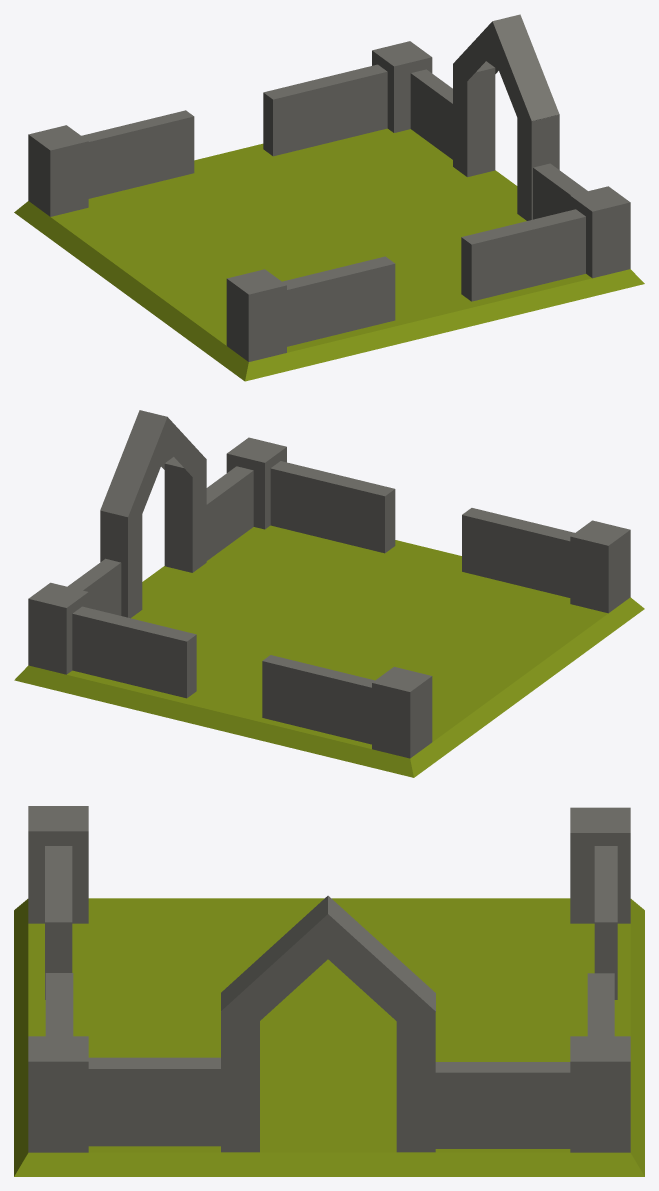
Rendered from cemetery_ushape.fbx.
3 views of the same model, one above another, from view 1: azimuth 30°, elevation 25°; view 2: azimuth 150°, elevation 25°; view 3: azimuth 270°, elevation 25° (orthographic). The views are drawn at different scales.
Parts seen in each view (by area): view 1: polySurface3281; view 2: polySurface3281; view 3: polySurface3281.
Boxes of the visible parts, left/top/right/bottom form: polySurface3281: left=14, top=14, right=644, bottom=381; polySurface3281: left=14, top=410, right=644, bottom=777; polySurface3281: left=14, top=806, right=644, bottom=1176.
Bounding box in the file's own units: 105 × 48.03 × 105.
1 material, 1 textured.
